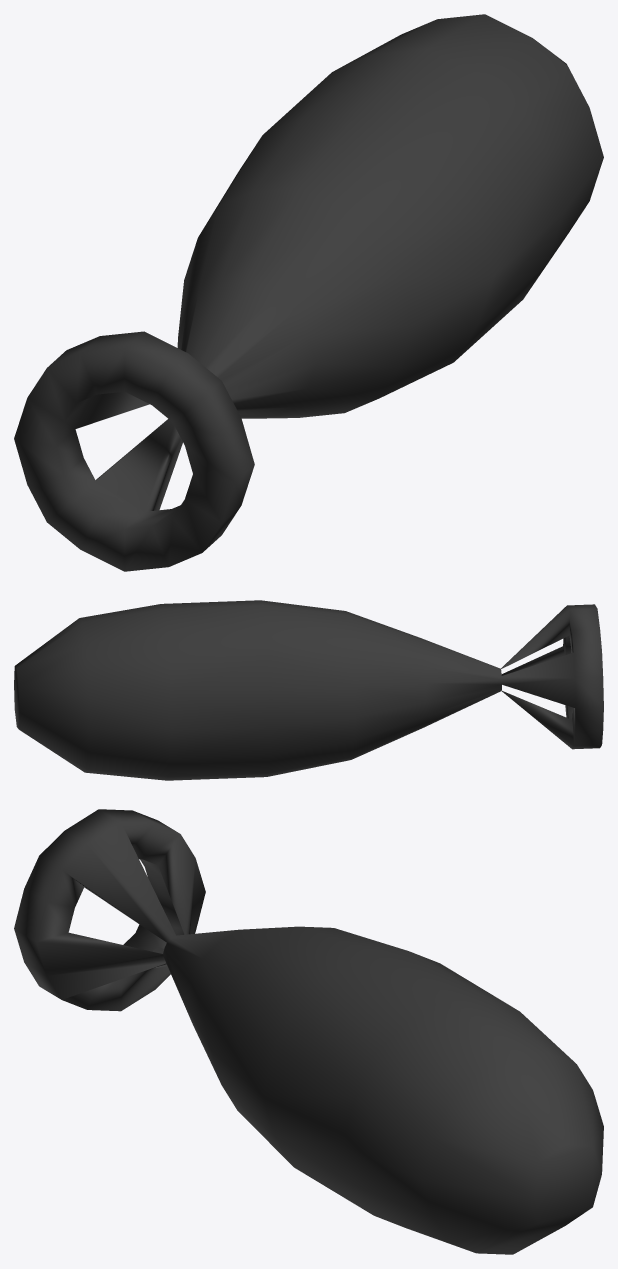
Rendered from bomb.fbx.
3 renders of one model, top to bottom at view 1: azimuth 30°, elevation 25°; view 2: azimuth 150°, elevation 25°; view 3: azimuth 270°, elevation 25°, orthographic. The views are drawn at different scales.
Parts seen in each view (by area): view 1: Plane01_None; view 2: Plane01_None; view 3: Plane01_None.
Part boxes in pixels (<box>): Plane01_None: <box>14,14,603,571</box>; Plane01_None: <box>14,600,603,780</box>; Plane01_None: <box>14,809,603,1254</box>.
Size of the model in its own units: 77.91 by 26.51 by 61.17.
1 material, 1 textured.
